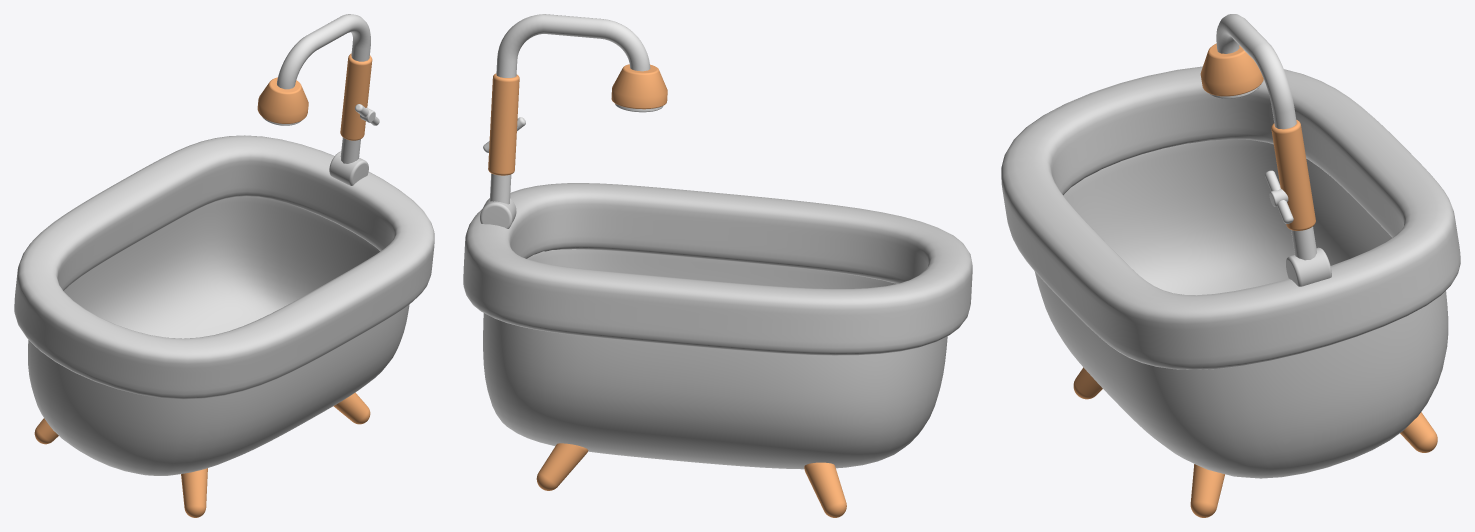
The model's file is Bath.fbx.
3 renders of one model, left to right at view 1: azimuth 30°, elevation 25°; view 2: azimuth 150°, elevation 25°; view 3: azimuth 270°, elevation 25°, orthographic. The views are drawn at different scales.
Visible parts, largest first — view 1: Cube.163, Cube.162, Torus.009, Cylinder.061, Cylinder.058, Cylinder.064, Cylinder.060, Cylinder.065; view 2: Cube.163, Cube.162, Torus.009, Cylinder.061, Cylinder.058, Cylinder.066, Cylinder.067, Cylinder.060; view 3: Cube.163, Cube.162, Torus.009, Cylinder.061, Cylinder.058, Cylinder.065, Cylinder.060, Cylinder.067, Cylinder.064.
Part boxes in pixels (x1,y1,x2,y2): Cube.163: [14, 135, 434, 399]; Cube.162: [28, 196, 409, 475]; Torus.009: [277, 14, 370, 163]; Cylinder.061: [340, 53, 372, 140]; Cylinder.058: [257, 77, 308, 123]; Cylinder.064: [181, 468, 207, 517]; Cylinder.060: [329, 151, 368, 185]; Cylinder.065: [333, 392, 370, 424]; Cube.163: [463, 183, 972, 355]; Cube.162: [483, 249, 947, 469]; Torus.009: [489, 14, 650, 204]; Cylinder.061: [488, 73, 519, 175]; Cylinder.058: [611, 64, 667, 109]; Cylinder.066: [804, 462, 846, 517]; Cylinder.067: [536, 443, 588, 490]; Cylinder.060: [480, 198, 516, 228]; Cube.163: [1001, 66, 1460, 369]; Cube.162: [1034, 139, 1448, 478]; Torus.009: [1216, 14, 1316, 260]; Cylinder.061: [1271, 120, 1315, 230]; Cylinder.058: [1200, 43, 1263, 96]; Cylinder.065: [1190, 464, 1224, 517]; Cylinder.060: [1286, 247, 1331, 286]; Cylinder.067: [1400, 412, 1437, 452]; Cylinder.064: [1073, 367, 1102, 399].
Bounding box in the file's own units: 529 × 503 × 429.
